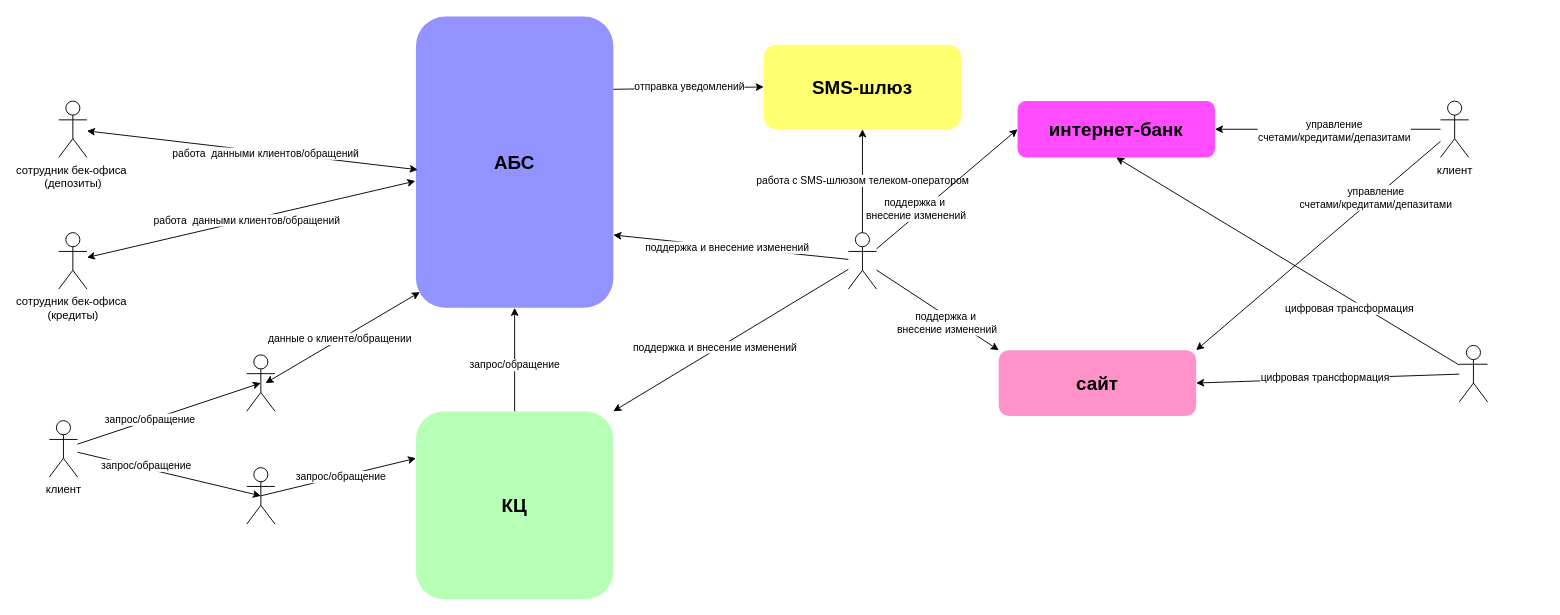
The diagram is 1560 pixels wide and 615 high, and some of its shapes have lost their labels. Here are the shapes that lost their labels. From the top down, the box of each, then its label:
(847, 232, 877, 289): сотрудник IT-отдела
(246, 354, 275, 411): сотрудник отделения
(1458, 345, 1488, 402): сотрудник ц ифровой трансформации
(246, 467, 275, 524): сотрудник КЦ
